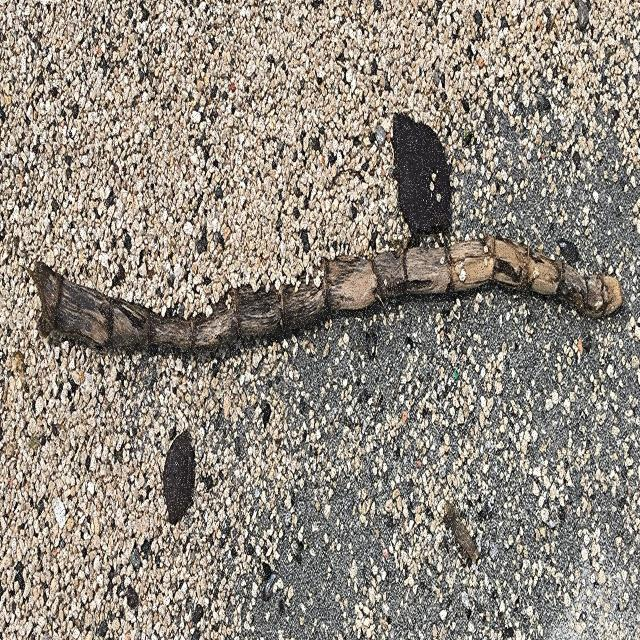wood_waste: (19, 233, 625, 358)
